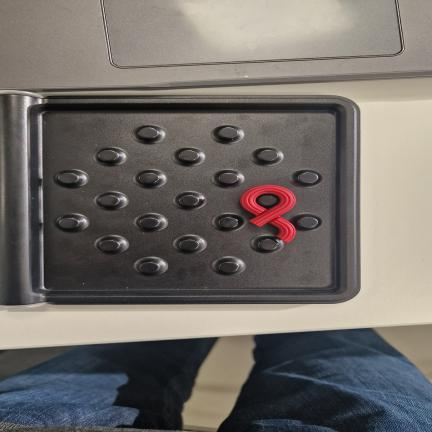J_DarkRed: (240, 185, 295, 242)
board: (0, 91, 360, 307)
hinge: (0, 89, 46, 312)
pin: (98, 149, 119, 162), (257, 195, 278, 208), (138, 127, 159, 139), (258, 150, 279, 162), (178, 150, 199, 162), (58, 172, 79, 184), (298, 172, 319, 184), (179, 195, 200, 207), (99, 195, 120, 207), (297, 217, 318, 229), (139, 217, 160, 229), (179, 239, 200, 251), (218, 261, 239, 273), (218, 127, 238, 139), (139, 172, 159, 184), (218, 172, 238, 184), (59, 217, 79, 229), (140, 262, 160, 274), (99, 240, 120, 251), (258, 239, 279, 250), (218, 217, 238, 228)
